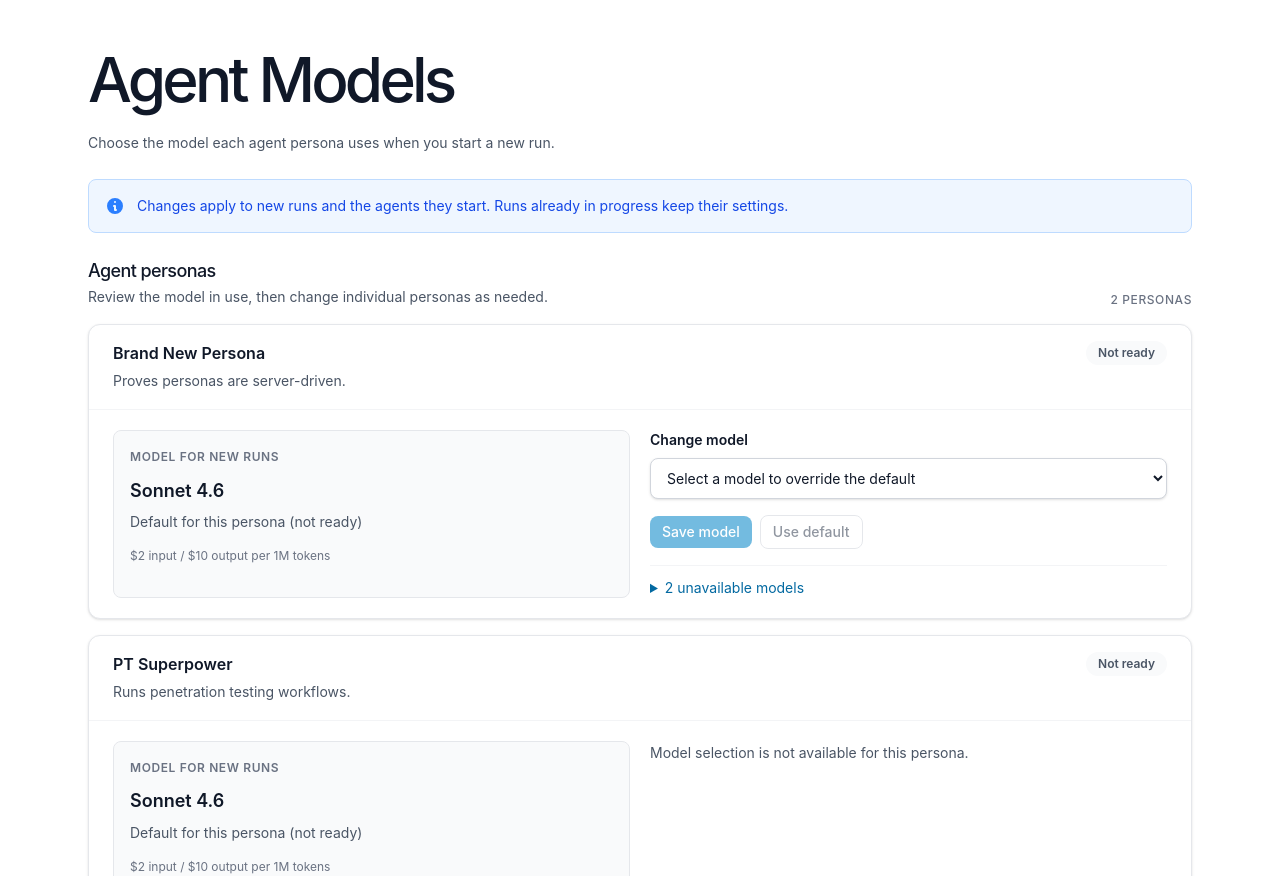
Test case: Agent Models page — issue #5422 › picker accessibility › focuses and operates the model picker and Save
Press Tab
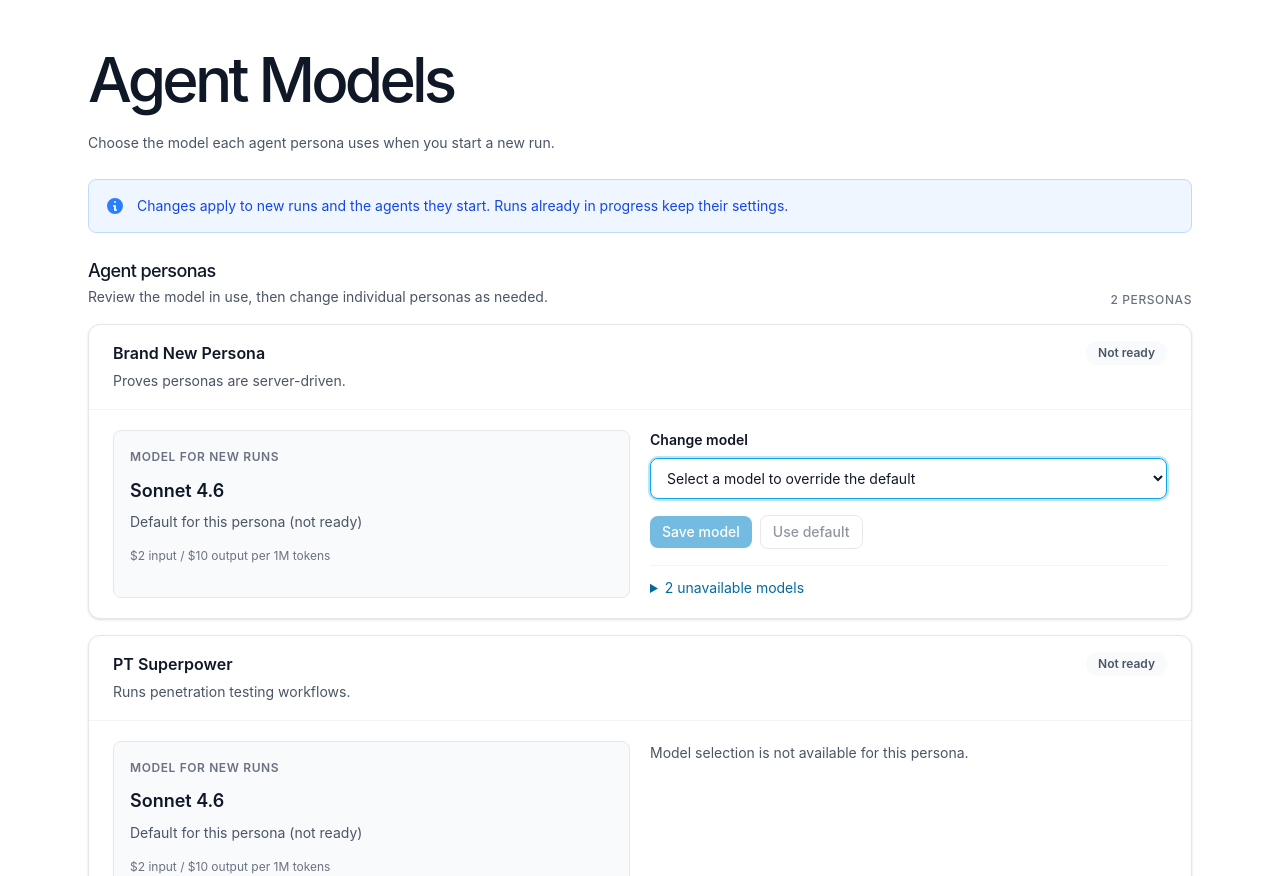
Select "Haiku 4.5" in the dropdown named "Model for" at [908, 479], box [650, 458, 1167, 499]
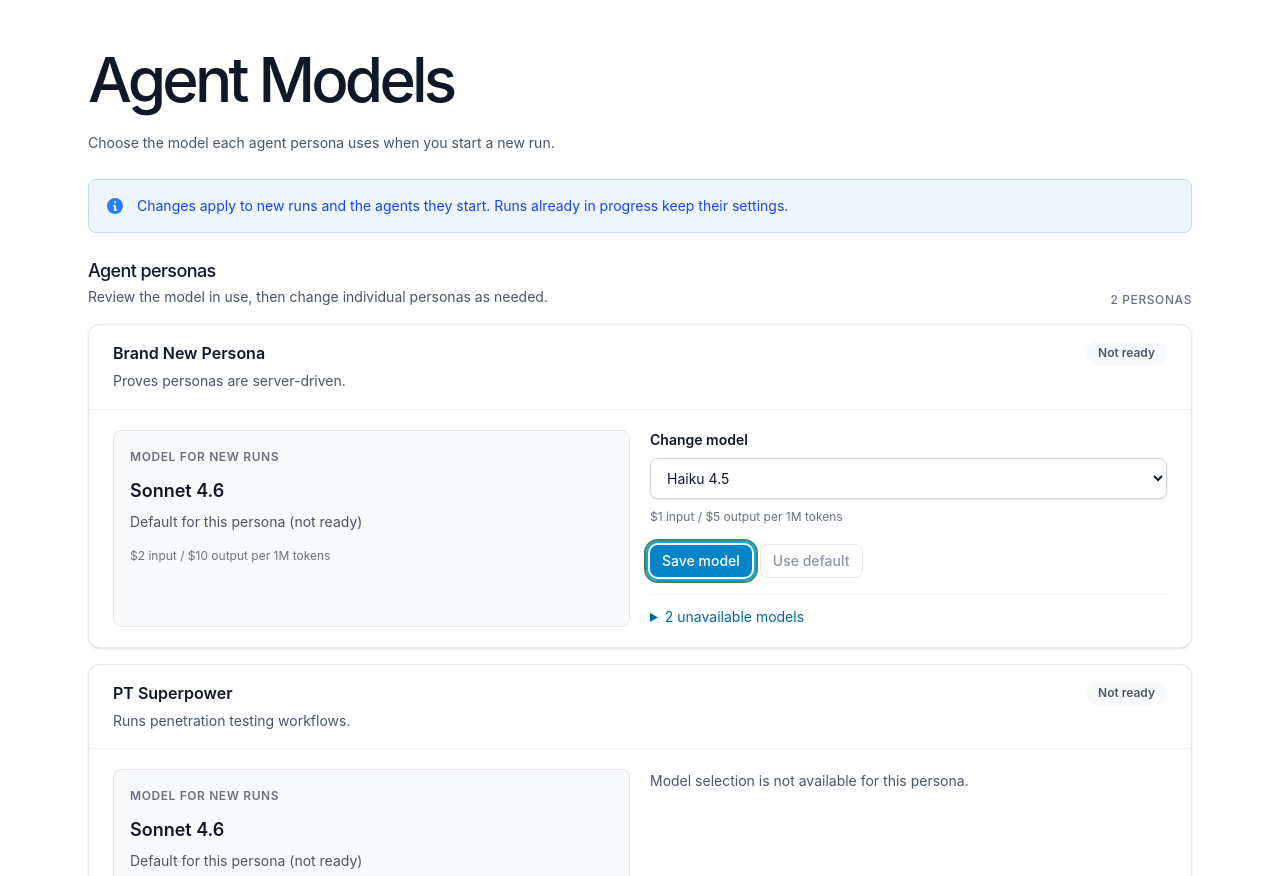
Result: the button "Save model" is enabled at [650, 544, 752, 576]
Press Enter
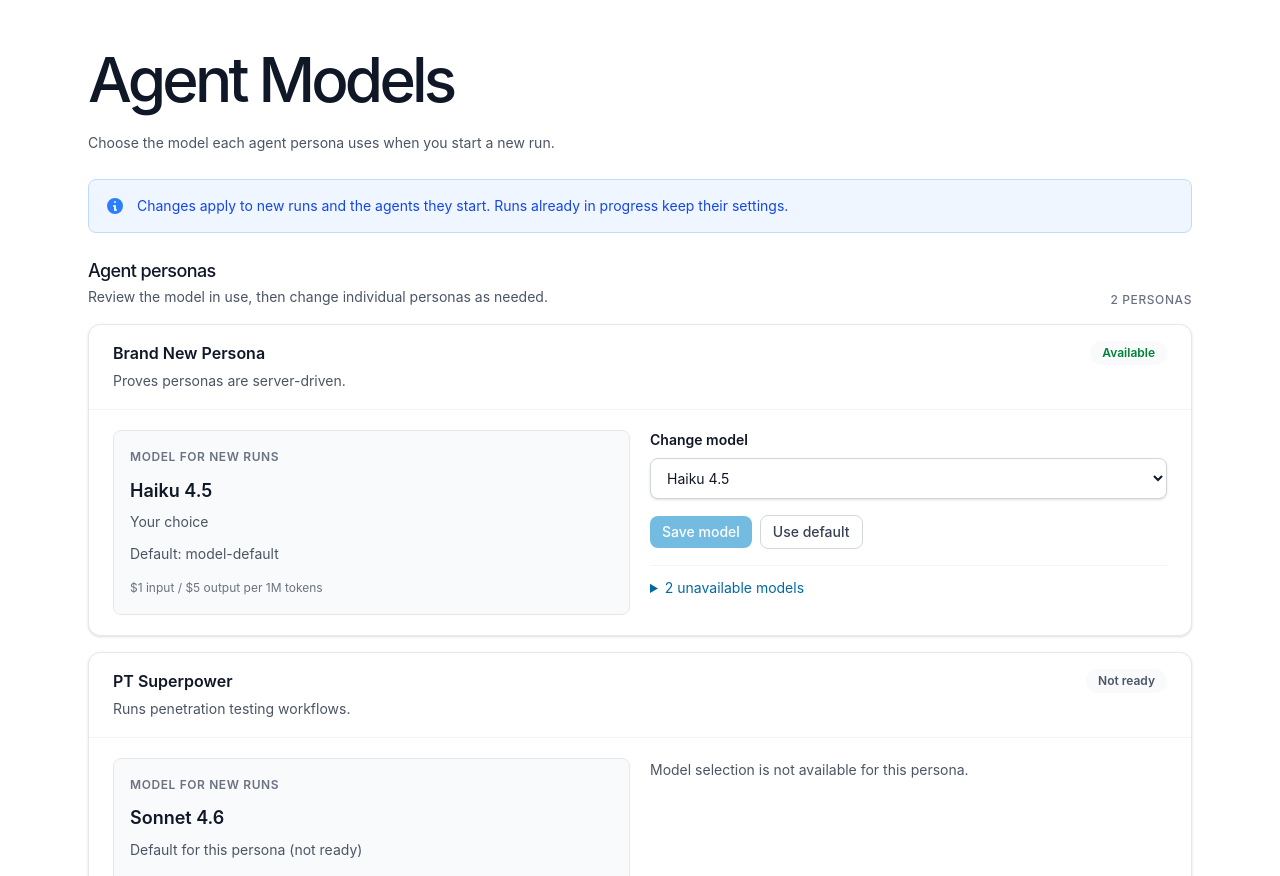
Result: the text "Your choice" is shown at [130, 513, 208, 530]
